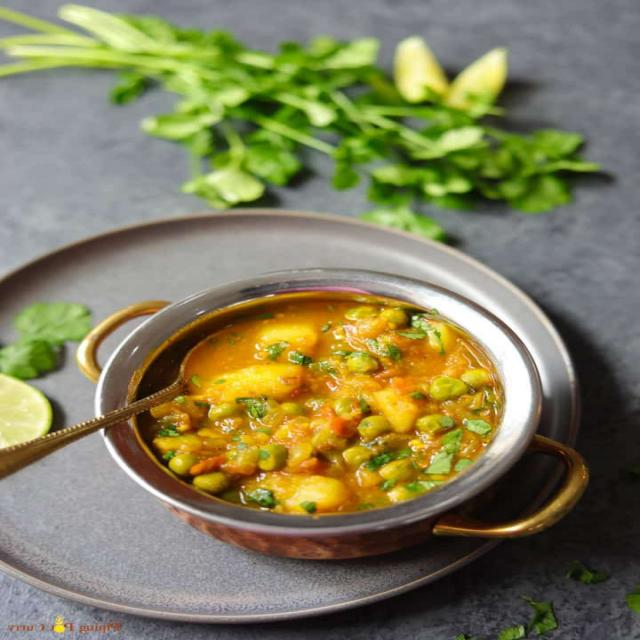Aloo Matar: (155, 300, 479, 510)
